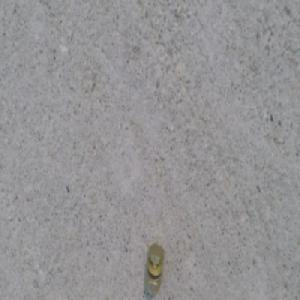BoltNutSet: (145, 245, 163, 294)
